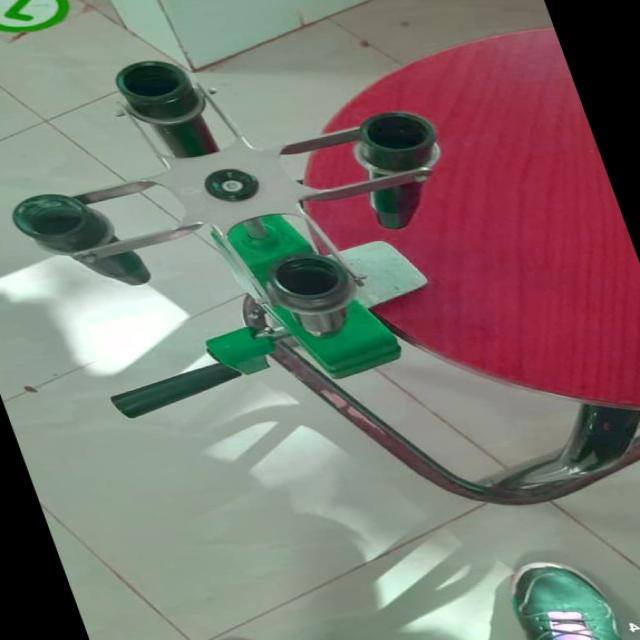Centrifuge: (0, 19, 524, 425)
